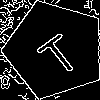T: (30, 25, 84, 80)
